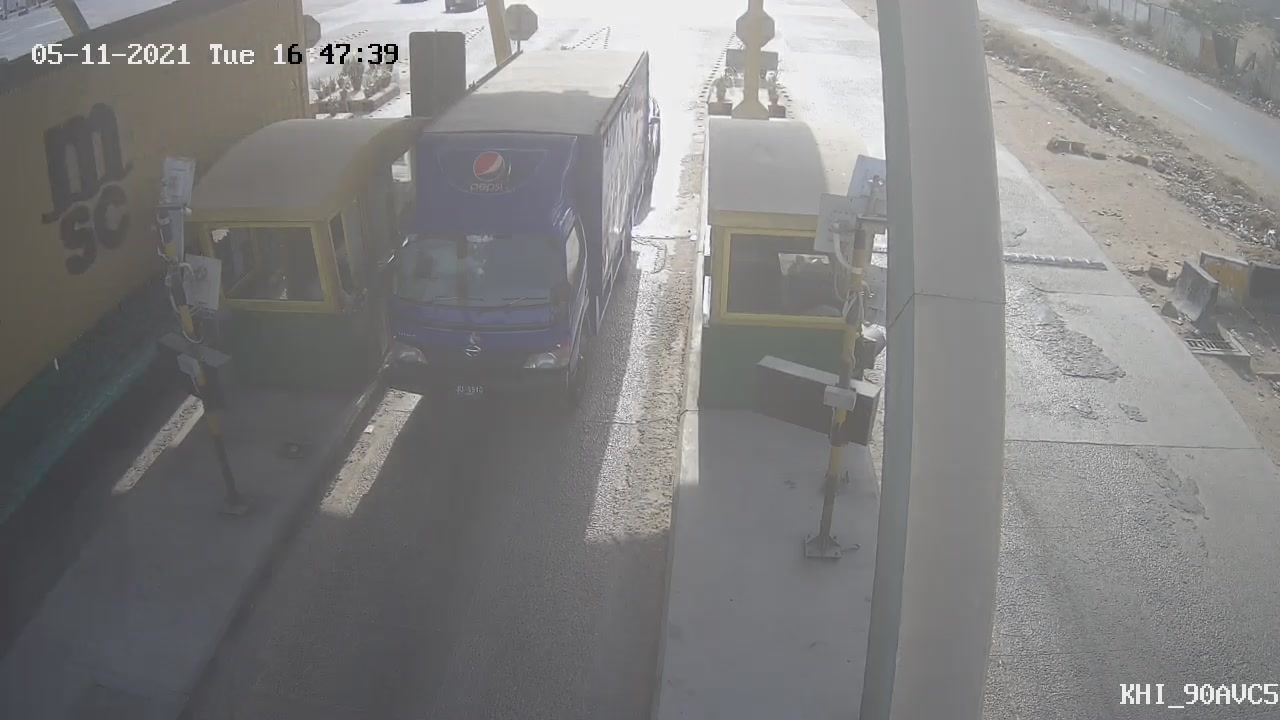F5: (316, 26, 687, 430)
